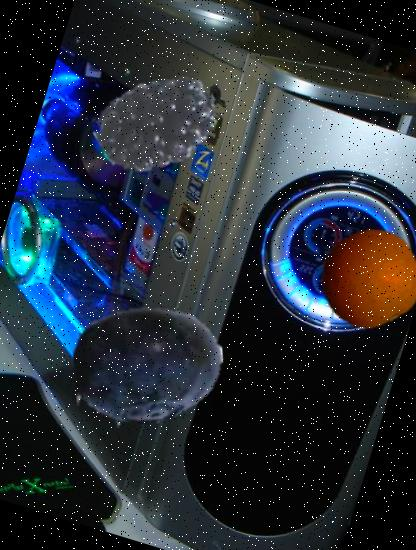Blueberry: (56, 272, 242, 459)
Mulberry: (83, 48, 235, 200)
Orange: (306, 215, 416, 342)
Papaya: (144, 80, 219, 156)
